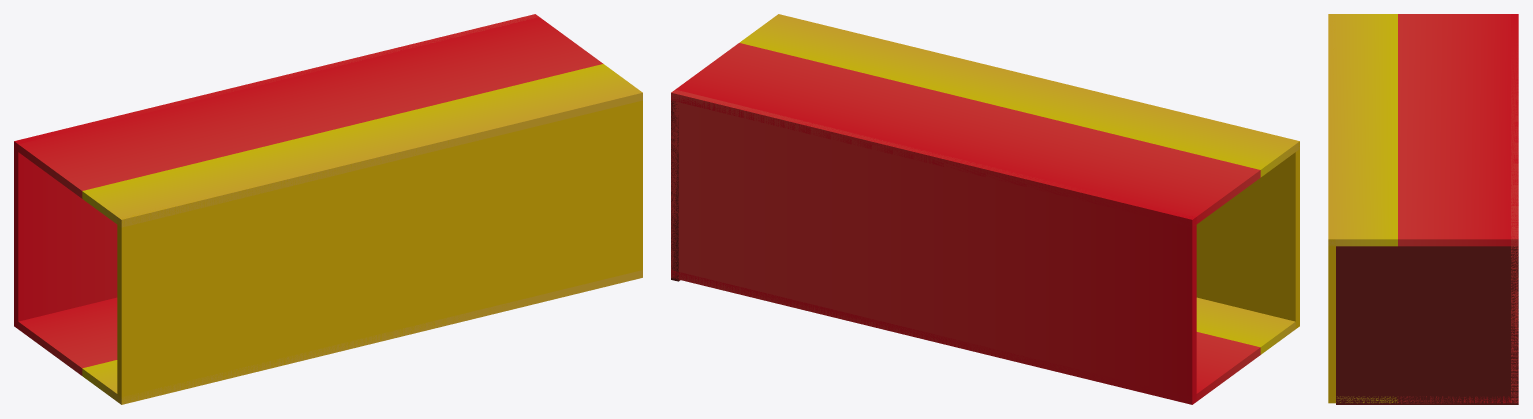
The model's file is Level2(Tir).fbx.
The picture shows the model from 3 angles, left to right: view 1: azimuth 30°, elevation 25°; view 2: azimuth 150°, elevation 25°; view 3: azimuth 270°, elevation 25°; orthographic projection. The views are drawn at different scales.
Visible parts, largest first — view 1: Cube.003; view 2: Cube.003; view 3: Cube.003.
Part boxes in pixels (x1=…): Cube.003: x1=14, y1=14, x2=642, y2=404; Cube.003: x1=671, y1=14, x2=1299, y2=404; Cube.003: x1=1328, y1=14, x2=1518, y2=404.
Size of the model in its own units: 700 by 240 by 250.
